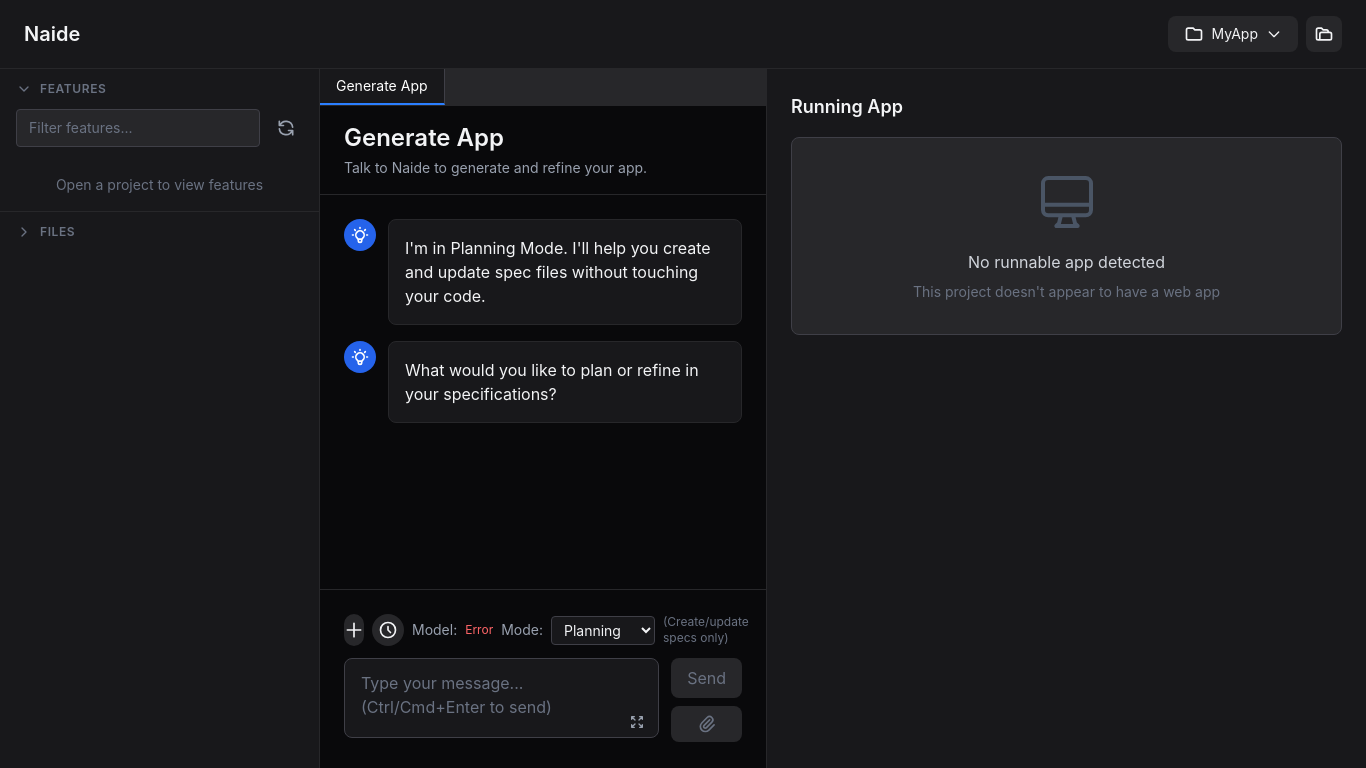
it: GenerateAppScreen › shows resize handle only when expanded
Expected: the text box with placeholder "Type your message... (Ctrl/Cmd+Enter to send)" is shown, [344, 658, 659, 738]
Click to expand
Step 1. Click the button titled "Expand" → (637, 722), box [623, 708, 651, 736]
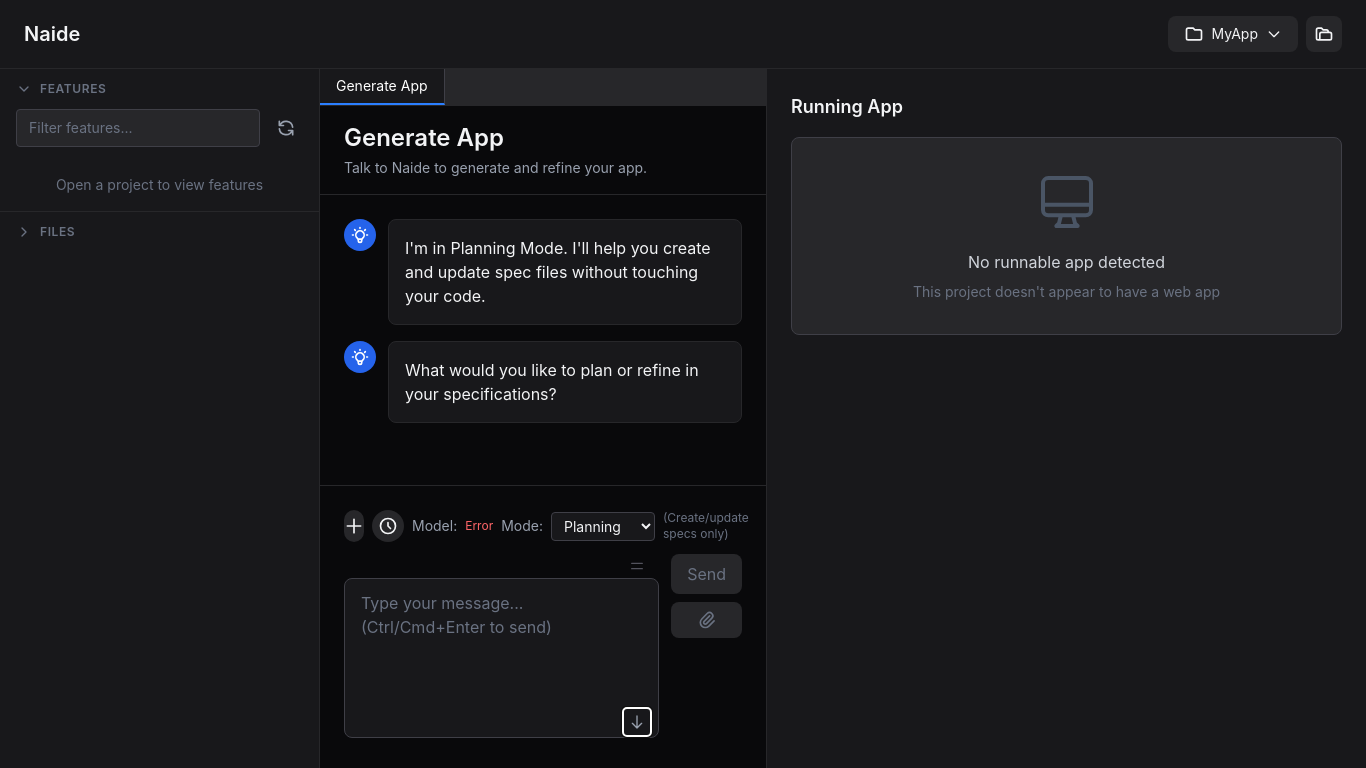
Expected: the element titled "Drag to resize textarea" is shown, [629, 558, 645, 574]
